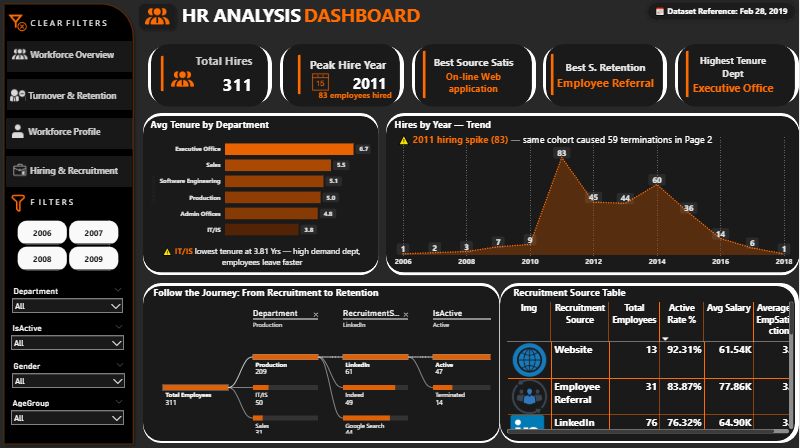

The dashboard page shown, as its layout file describes it:
{"tool":"powerbi","page":{"name":"Hiring & Recruitment","canvas":[1600,900],"ordinal":3},"visuals":[{"type":"shape","box":[298,94.1,99.8,116.7],"z":0,"group":"g5"},{"type":"shape","box":[561.5,94.1,99.8,116.7],"z":0,"group":"g4"},{"type":"shape","box":[825,94.1,99.8,116.7],"z":0,"group":"g1"},{"type":"shape","box":[1088.5,94.1,99.8,116.7],"z":0,"group":"g2"},{"type":"shape","box":[1352,94.1,99.8,116.7],"z":0,"group":"g3"},{"type":"shape","box":[1002,568,598,320],"z":0},{"type":"shape","box":[446.5,94.4,100.1,116.4],"z":1000,"group":"g5"},{"type":"shape","box":[710,94.4,100.1,116.4],"z":1000,"group":"g4"},{"type":"shape","box":[973.5,94.4,100.1,116.4],"z":1000,"group":"g1"},{"type":"shape","box":[1237,94.4,100.1,116.4],"z":1000,"group":"g2"},{"type":"shape","box":[1500.5,94.4,100.1,116.4],"z":1000,"group":"g3"},{"type":"shape","box":[288.6,228.5,471.4,324.3],"z":1000},{"type":"shape","box":[0,0,278.1,900],"z":2000},{"type":"shape","box":[304.7,89.4,233.8,125.5],"z":2000,"group":"g5"},{"type":"shape","box":[568.2,89.4,233.8,125.5],"z":2000,"group":"g4"},{"type":"shape","box":[831.7,89.4,233.8,125.5],"z":2000,"group":"g1"},{"type":"shape","box":[1095.2,89.4,233.8,125.5],"z":2000,"group":"g2"},{"type":"shape","box":[1358.7,89.4,233.8,125.5],"z":2000,"group":"g3"},{"type":"shape","box":[1289.8,0,310,49.6],"z":3000},{"type":"textbox","box":[1302,8,284,48],"z":4000},{"type":"textbox","box":[322.5,0,563.8,77.5],"z":5000},{"type":"shape","box":[270,0,92.5,70],"z":6000},{"type":"advancedSlicerVisual","fields":{"Values":["Dim_Date.Year"]},"box":[31.9,418.1,212.6,150.6],"z":7000},{"type":"textbox","box":[58.5,389.8,118.7,37.2],"z":8000},{"type":"slicer","fields":{"Values":["Dim_Department.Department"]},"box":[16,568,242,72],"z":9000},{"type":"slicer","fields":{"Values":["HR_Fact_Table.IsActive"]},"box":[13.3,642.7,246,72],"z":10000},{"type":"slicer","fields":{"Values":["Dim_Employee.Sex"]},"box":[16,717.3,246,72],"z":11000},{"type":"slicer","fields":{"Values":["Dim_Employee.AgeGroup"]},"box":[14.7,792,246,76],"z":12000},{"type":"actionButton","box":[16,84,246,54],"z":13000},{"type":"actionButton","box":[12,166,246,54],"z":14000},{"type":"actionButton","box":[12,238,246,54],"z":15000},{"type":"actionButton","box":[16,314,242,54],"z":16000},{"type":"image","box":[287.5,10,56.2,48.8],"z":17000},{"type":"group","id":"g1","title":"KPI Shape","box":[825,89.4,248,124],"z":18000},{"type":"shape","box":[16,84,250,62],"z":19000},{"type":"shape","box":[16,160,250,62],"z":20000},{"type":"shape","box":[14,237.3,254,62],"z":21000},{"type":"shape","box":[14,314,252,62],"z":22000},{"type":"image","box":[12.8,24.8,49.6,44.3],"z":23000},{"type":"image","box":[17.3,389.8,40.7,37.2],"z":24000},{"type":"shape","box":[288.3,233.3,471.7,313.3],"z":25000},{"type":"shape","box":[1002,574,590,310],"z":26000},{"type":"clusteredBarChart","title":"Avg Tenure by Department","fields":{"Category":["Dim_Department.Department"],"Y":["Dax_Measures.Avg Tenure"]},"box":[297.6,238,450,253.3],"z":27000},{"type":"textbox","box":[58.5,31.9,171.9,37.2],"z":28000},{"type":"group","id":"g2","title":"KPI Shape","box":[1088.5,89.4,248,124],"z":29000},{"type":"group","id":"g3","title":"KPI Shape","box":[1352,89.4,248,124],"z":30000},{"type":"group","id":"g4","title":"KPI Shape","box":[561.5,89.4,248,124],"z":31000},{"type":"group","id":"g5","title":"KPI Shape","box":[298,89.4,248,124],"z":32000},{"type":"cardVisual","fields":{"Data":["Dax_Measures.Best Source Retention"]},"box":[1073,80,278,142],"z":33000},{"type":"cardVisual","fields":{"Data":["Dax_Measures.Peak Hire Year"]},"box":[568,82,248,138],"z":34000},{"type":"cardVisual","fields":{"Data":["Dax_Measures.Best Source Satisfaction"]},"box":[818,74,262,154],"z":35000},{"type":"shape","box":[773.3,228.3,826.7,325],"z":36000},{"type":"shape","box":[773.3,233.3,826.7,313.3],"z":37000},{"type":"areaChart","title":"Hires by Year — Trend","fields":{"Y":["Dax_Measures.Total Employees"],"Category":["HR_Fact_Table.Hire Year"]},"box":[786,238,806,308],"z":38000},{"type":"image","box":[622,144,42,44],"z":39000},{"type":"textbox","box":[316,488,416,60],"z":40000},{"type":"textbox","box":[634,176,158,34],"z":41000},{"type":"cardVisual","fields":{"Data":["Dax_Measures.Total Employees"]},"box":[294,84,254,130],"z":42000},{"type":"image","box":[344,134,46,52],"z":43000},{"type":"cardVisual","fields":{"Data":["Dax_Measures.Highest Tenure Dept"]},"box":[1344,74,248,152],"z":44000},{"type":"tableEx","title":"Employees by Age Group","fields":{"Values":["Dim_RecruitmentSource.Img","Dim_RecruitmentSource.RecruitmentSource","Dax_Measures.Total Employees","Dax_Measures.Active Rate %","Dax_Measures.Avg Salary","Avg(HR_Fact_Table.EmpSatisfaction)"]},"box":[1010,600,584,274],"z":45000},{"type":"shape","box":[288,568,714,320],"z":46000},{"type":"shape","box":[288.3,573.3,713.3,310],"z":47000},{"type":"decompositionTreeVisual","title":"Source Comparison","fields":{"Analyze":["Dax_Measures.Total Employees"],"ExplainBy":["Dim_Department.Department","Dim_RecruitmentSource.RecruitmentSource","HR_Fact_Table.IsActive","Dim_Employee.AgeGroup"]},"box":[298,604,690,270],"z":48000},{"type":"textbox","box":[304,568,468,40],"z":49000},{"type":"textbox","box":[1024,568,264,40],"z":50000},{"type":"textbox","box":[792,262,660,52],"z":51000}]}

Visuals, with their boxes in screenshot pixels (x1, y1, x2, y2), scaled from the page's 1600x900 canvas onto the 800x448 screenshot:
shape: rect(149, 47, 199, 105)
shape: rect(281, 47, 331, 105)
shape: rect(412, 47, 462, 105)
shape: rect(544, 47, 594, 105)
shape: rect(676, 47, 726, 105)
shape: rect(501, 283, 799, 442)
shape: rect(223, 47, 273, 105)
shape: rect(355, 47, 405, 105)
shape: rect(487, 47, 537, 105)
shape: rect(618, 47, 669, 105)
shape: rect(750, 47, 799, 105)
shape: rect(144, 114, 380, 275)
shape: rect(0, 0, 139, 447)
shape: rect(152, 45, 269, 107)
shape: rect(284, 45, 401, 107)
shape: rect(416, 45, 533, 107)
shape: rect(548, 45, 664, 107)
shape: rect(679, 45, 796, 107)
shape: rect(645, 0, 799, 25)
textbox: rect(651, 4, 793, 28)
textbox: rect(161, 0, 443, 39)
shape: rect(135, 0, 181, 35)
advancedSlicerVisual - Dim_Date.Year: rect(16, 208, 122, 283)
textbox: rect(29, 194, 89, 213)
slicer - Dim_Department.Department: rect(8, 283, 129, 319)
slicer - HR_Fact_Table.IsActive: rect(7, 320, 130, 356)
slicer - Dim_Employee.Sex: rect(8, 357, 131, 393)
slicer - Dim_Employee.AgeGroup: rect(7, 394, 130, 432)
actionButton: rect(8, 42, 131, 69)
actionButton: rect(6, 83, 129, 110)
actionButton: rect(6, 118, 129, 145)
actionButton: rect(8, 156, 129, 183)
image: rect(144, 5, 172, 29)
"KPI Shape" group: rect(412, 45, 536, 106)
shape: rect(8, 42, 133, 73)
shape: rect(8, 80, 133, 111)
shape: rect(7, 118, 134, 149)
shape: rect(7, 156, 133, 187)
image: rect(6, 12, 31, 34)
image: rect(9, 194, 29, 213)
shape: rect(144, 116, 380, 272)
shape: rect(501, 286, 796, 440)
"Avg Tenure by Department" clusteredBarChart: rect(149, 118, 374, 245)
textbox: rect(29, 16, 115, 34)
"KPI Shape" group: rect(544, 45, 668, 106)
"KPI Shape" group: rect(676, 45, 799, 106)
"KPI Shape" group: rect(281, 45, 405, 106)
"KPI Shape" group: rect(149, 45, 273, 106)
cardVisual - Dax_Measures.Best Source Retention: rect(536, 40, 676, 111)
cardVisual - Dax_Measures.Peak Hire Year: rect(284, 41, 408, 110)
cardVisual - Dax_Measures.Best Source Satisfaction: rect(409, 37, 540, 113)
shape: rect(387, 114, 799, 275)
shape: rect(387, 116, 799, 272)
"Hires by Year — Trend" areaChart: rect(393, 118, 796, 272)
image: rect(311, 72, 332, 94)
textbox: rect(158, 243, 366, 273)
textbox: rect(317, 88, 396, 105)
cardVisual - Dax_Measures.Total Employees: rect(147, 42, 274, 107)
image: rect(172, 67, 195, 93)
cardVisual - Dax_Measures.Highest Tenure Dept: rect(672, 37, 796, 112)
"Employees by Age Group" tableEx: rect(505, 299, 797, 435)
shape: rect(144, 283, 501, 442)
shape: rect(144, 285, 501, 440)
"Source Comparison" decompositionTreeVisual: rect(149, 301, 494, 435)
textbox: rect(152, 283, 386, 303)
textbox: rect(512, 283, 644, 303)
textbox: rect(396, 130, 726, 156)
